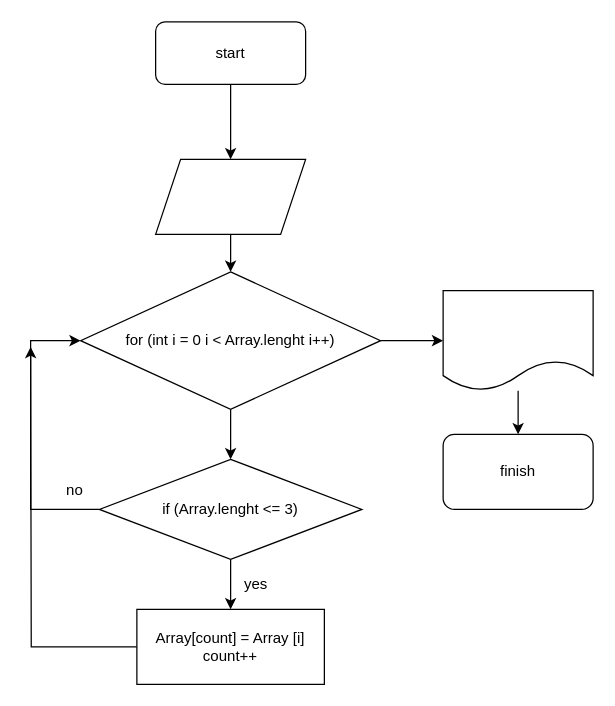
The diagram is 615 pixels wide and 706 high, and some of its shapes have lost their labels. The shapes that lost their labels are listed below. From the top down, each one's box as (x1, y1, x2, y2) in pixels, then its label:
(154, 158, 306, 234): string Array int count = 0
(442, 289, 593, 391): print Array [i]
